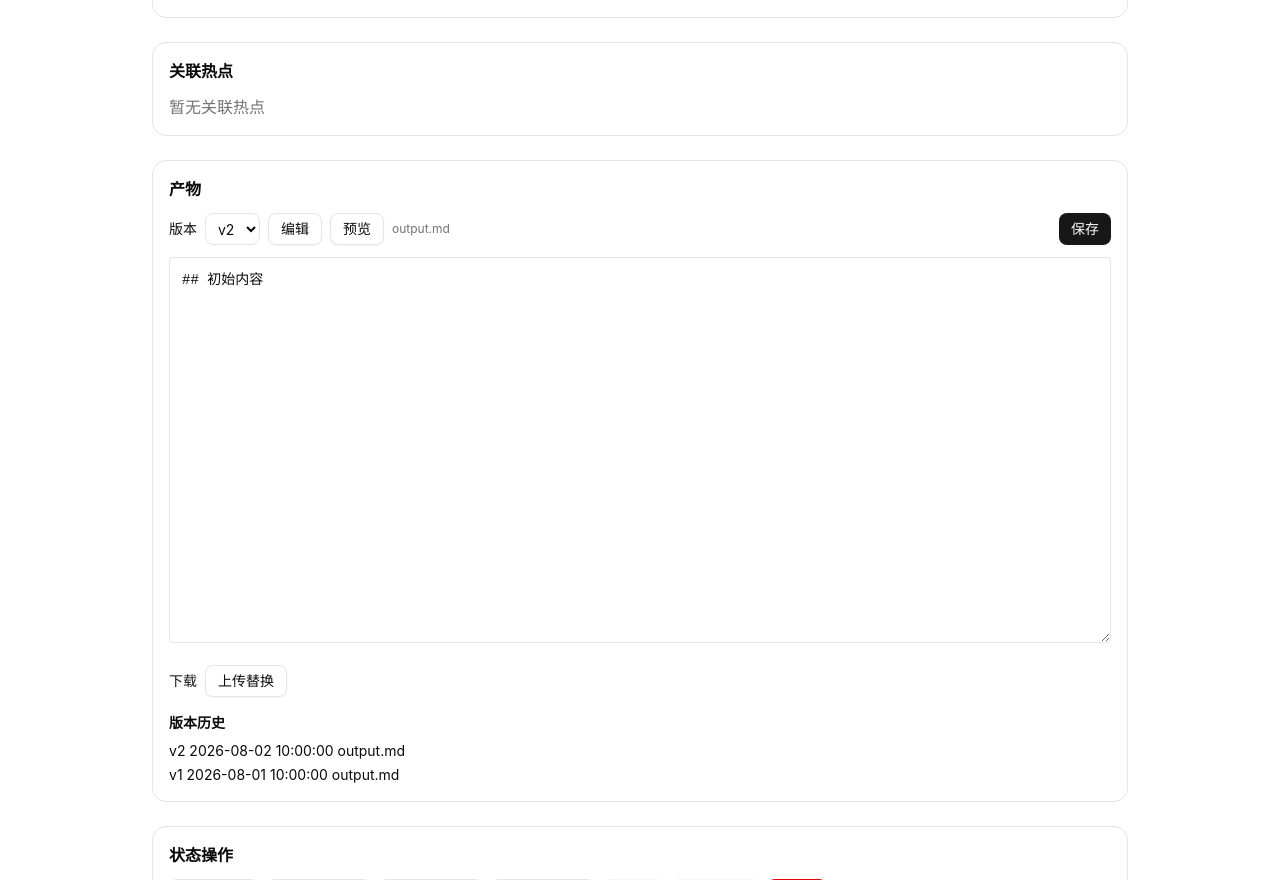
Test: TaskDetailPage output section › handles VERSION_CONFLICT by reloading the latest version
(page scrolled)
Replace the text in the text box named "产物内容" with "过期编辑": (640, 450) left=169, top=257, right=1111, bottom=643
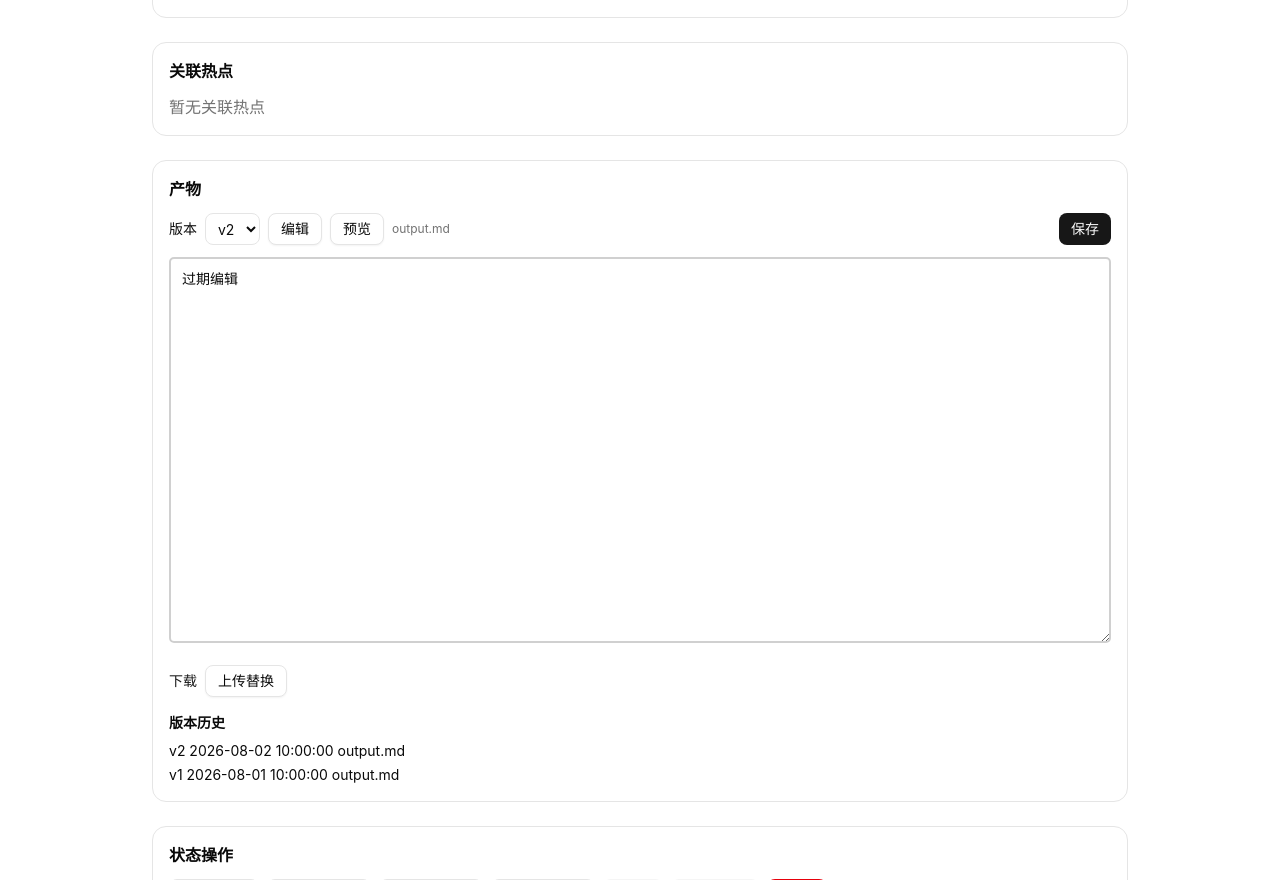
Click the button "保存": click(1085, 229) left=1059, top=213, right=1111, bottom=245
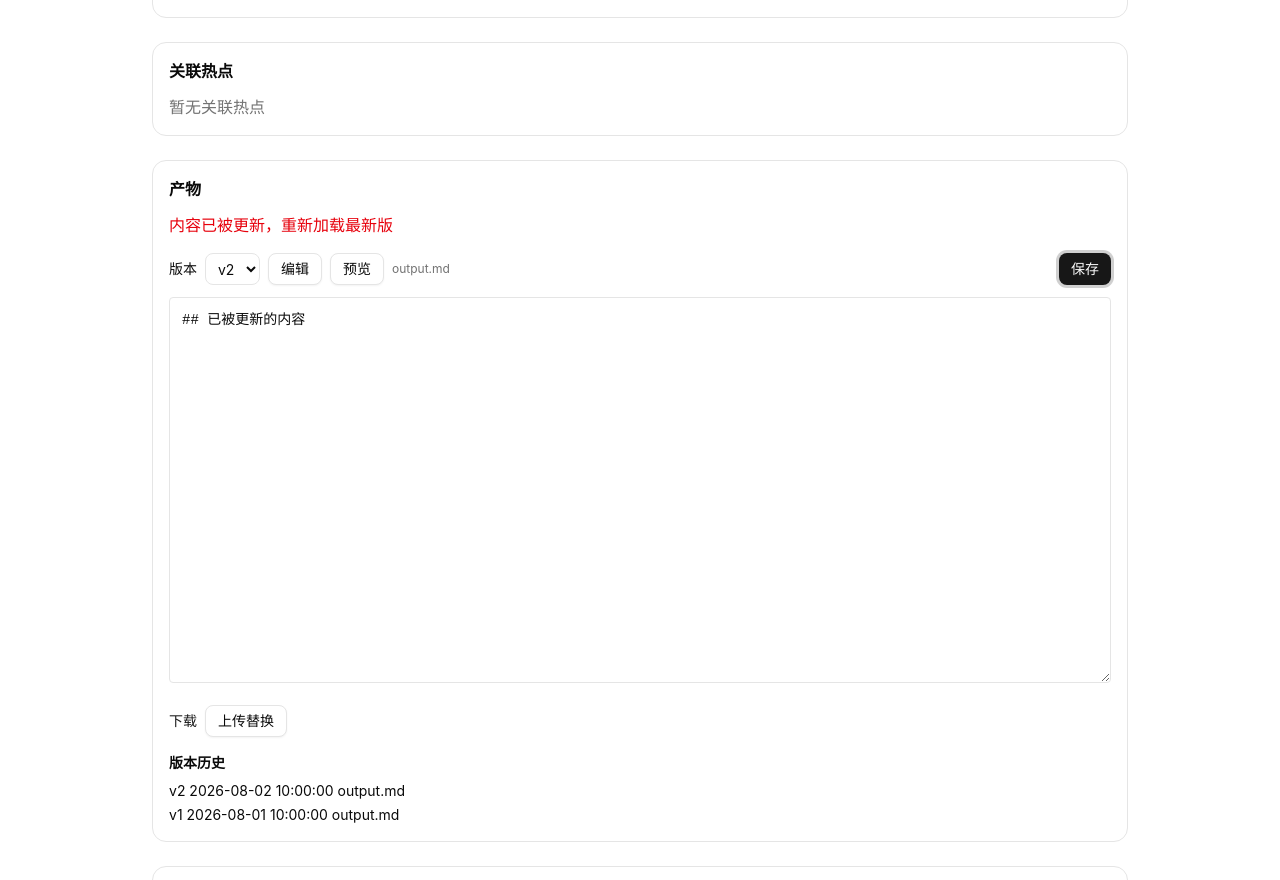
Expected: the text "内容已被更新，重新加载最新版" is shown, left=169, top=215, right=393, bottom=235
Expected: the text box named "产物内容" holds "## 已被更新的内容", left=169, top=297, right=1111, bottom=683
